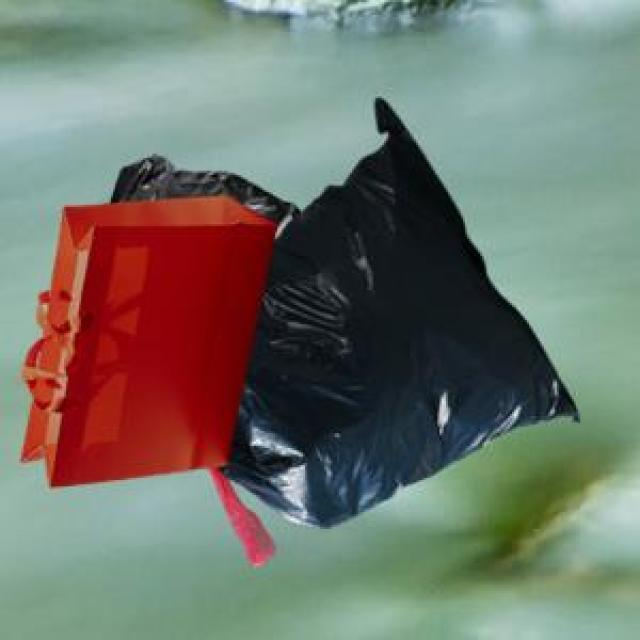miscellaneous trash: (205, 94, 574, 563), (108, 152, 297, 235)
paper: (17, 192, 272, 482)
